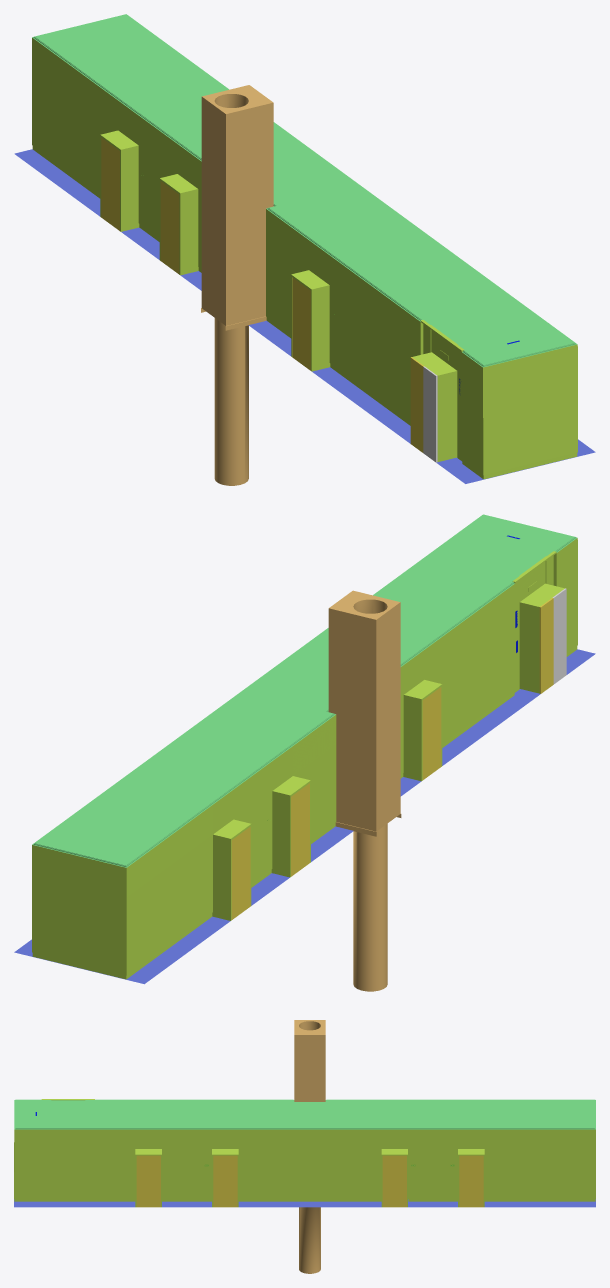
The model's file is Hallway.fbx.
3 views of the same model, one above another, from view 1: azimuth 30°, elevation 25°; view 2: azimuth 150°, elevation 25°; view 3: azimuth 270°, elevation 25° (orthographic). The views are drawn at different scales.
Parts seen in each view (by area): view 1: wall, ceiling, pillar, floor, doorFrame.005, doorFrame.004, doorFrame.006, door.001, door.002, door.007, Elev_Door_L, Elev_Door_R; view 2: wall, ceiling, pillar, floor, doorFrame.006, doorFrame.004, doorFrame.005, door.002, door.007, door.001, Elev_Door_R, Elev_Door_L; view 3: wall, ceiling, pillar, floor, door.004, door.005, door.003, door.006, doorFrame.001, doorFrame.003, doorFrame.
Part boxes in pixels (x1,y1,x2,y2): wall: [32, 38, 577, 479]; ceiling: [32, 14, 577, 367]; pillar: [201, 85, 273, 485]; floor: [14, 149, 595, 483]; doorFrame.005: [159, 174, 198, 275]; doorFrame.004: [100, 130, 139, 231]; doorFrame.006: [291, 270, 330, 371]; door.001: [160, 181, 179, 274]; door.002: [101, 138, 119, 230]; door.007: [292, 277, 310, 370]; Elev_Door_L: [423, 366, 437, 462]; Elev_Door_R: [410, 357, 424, 452]; wall: [32, 538, 577, 979]; ceiling: [32, 514, 577, 867]; pillar: [328, 590, 401, 991]; floor: [14, 649, 595, 984]; doorFrame.006: [403, 680, 442, 781]; doorFrame.004: [212, 819, 251, 920]; doorFrame.005: [271, 776, 310, 877]; door.002: [231, 826, 250, 919]; door.007: [422, 687, 441, 780]; door.001: [291, 783, 309, 876]; Elev_Door_R: [539, 598, 553, 693]; Elev_Door_L: [552, 588, 566, 684]; wall: [14, 1099, 595, 1201]; ceiling: [14, 1099, 595, 1129]; pillar: [294, 1020, 325, 1273]; floor: [14, 1199, 595, 1207]; door.004: [459, 1155, 483, 1207]; door.005: [213, 1155, 237, 1207]; door.003: [382, 1155, 406, 1207]; door.006: [136, 1155, 160, 1207]; doorFrame.001: [212, 1149, 238, 1207]; doorFrame.003: [458, 1149, 484, 1207]; doorFrame: [135, 1149, 161, 1207].
Bounding box in the file's own units: 429 × 1012 × 2192.
